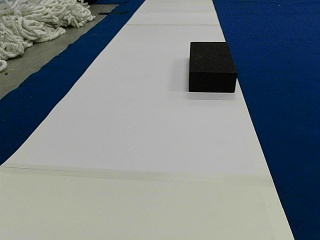block: (188, 40, 236, 93)
